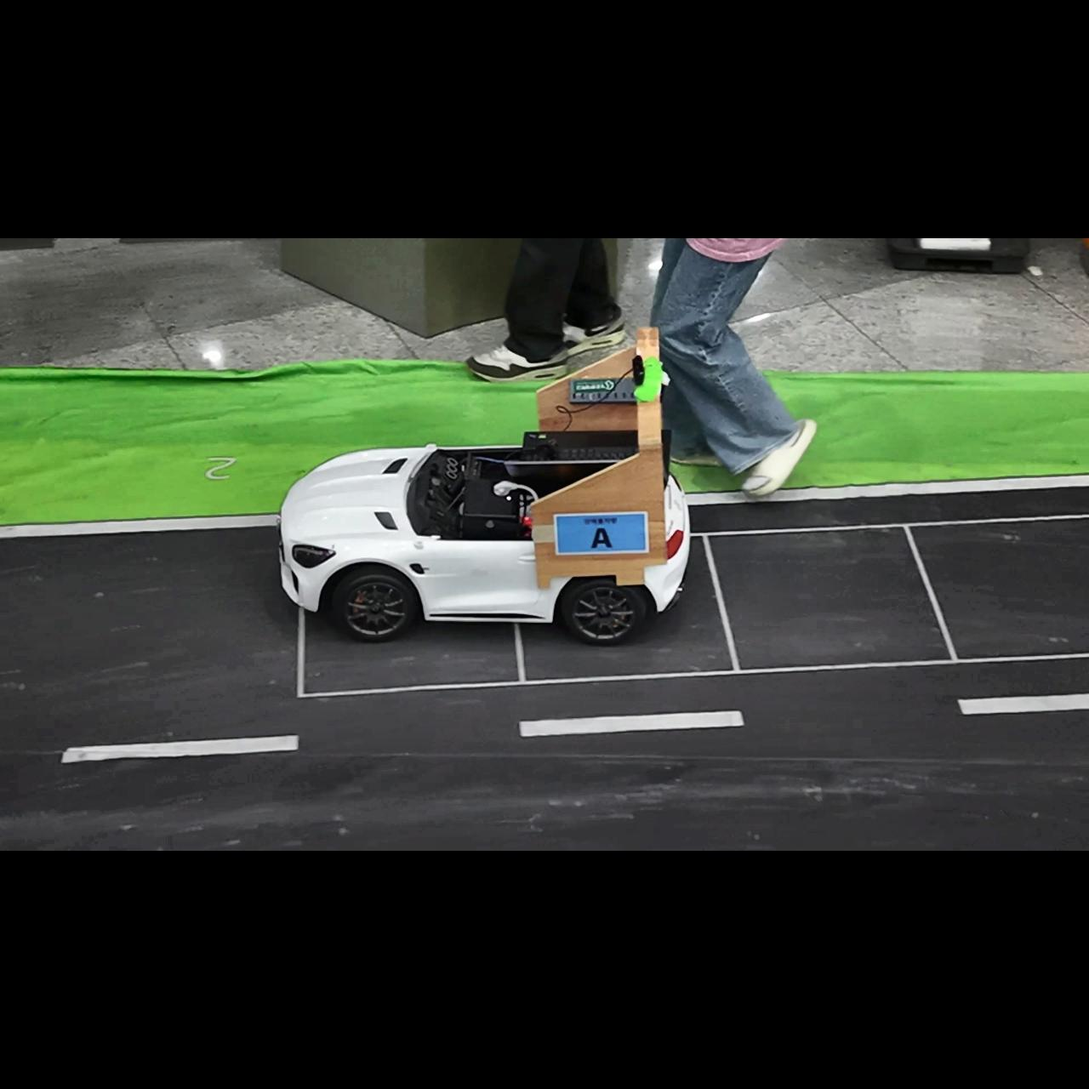broken_line: (61, 735, 300, 764), (519, 711, 745, 737), (956, 693, 1088, 715)
